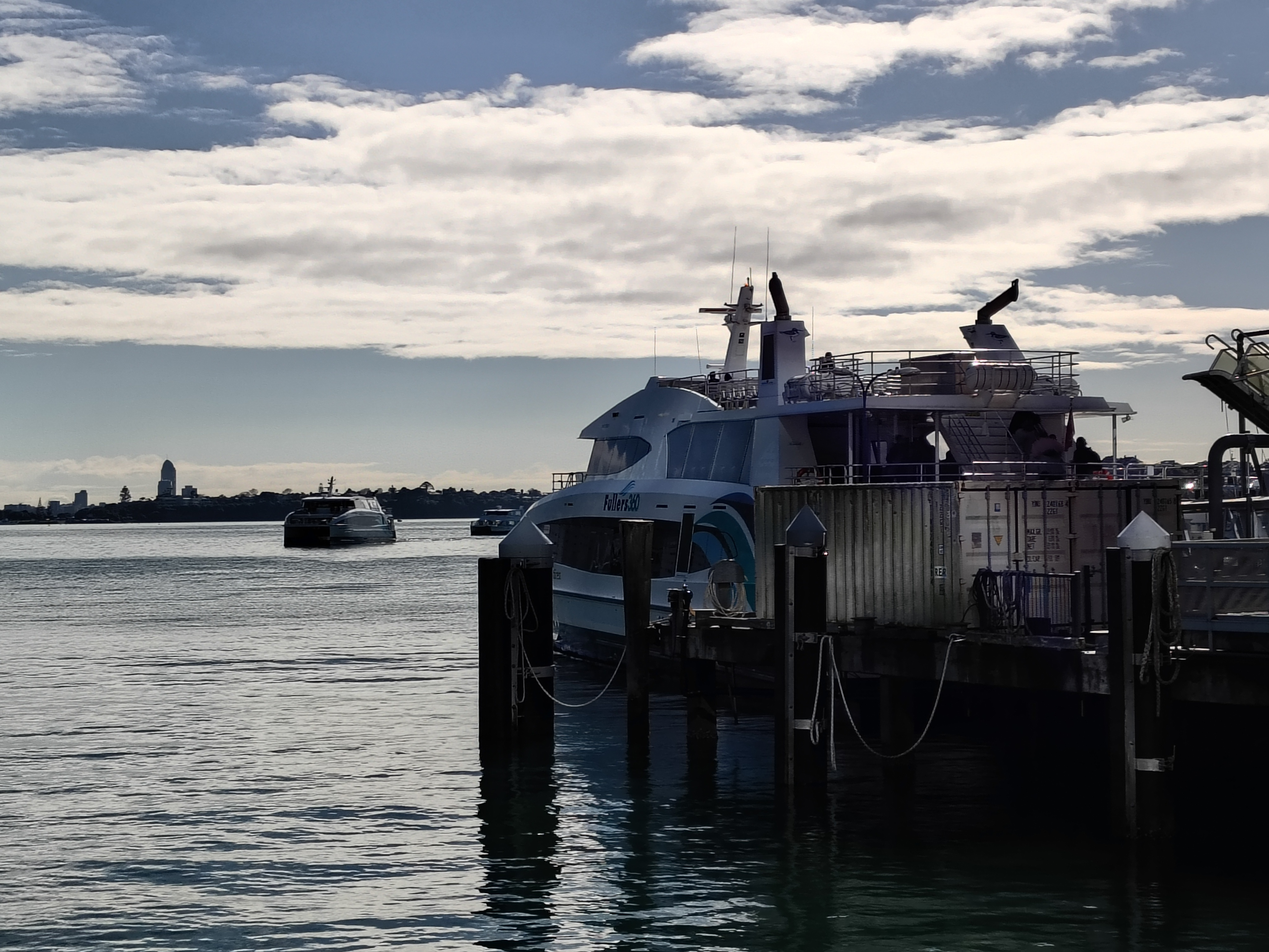ferry: (498, 283, 1136, 675), (284, 487, 397, 547)
